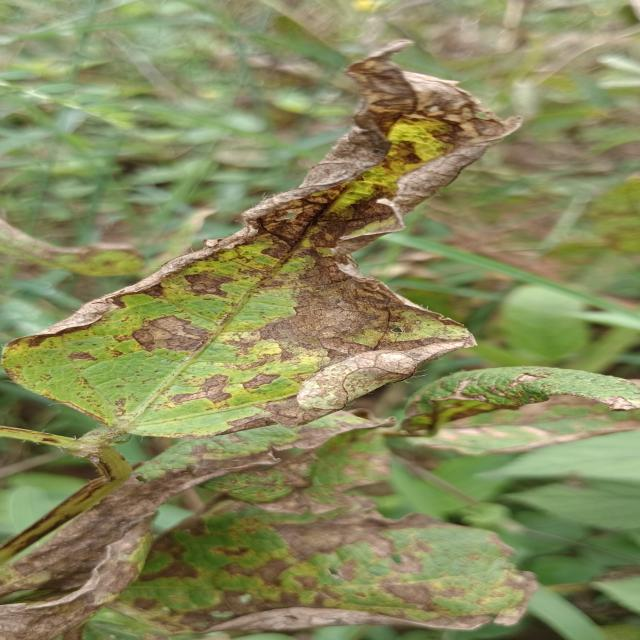Black gram_leaf spot: (0, 30, 520, 442), (78, 469, 532, 640), (398, 364, 640, 457)
